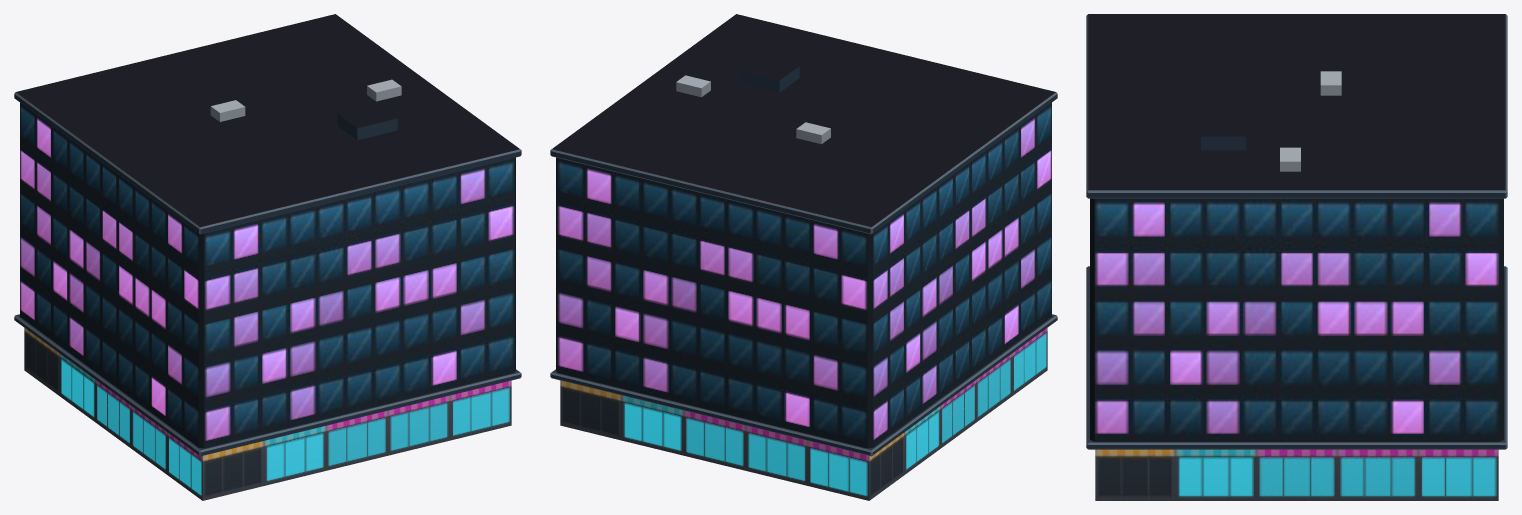
The model's file is building-28x28x24.glb.
3 renders of one model, left to right at view 1: azimuth 30°, elevation 25°; view 2: azimuth 150°, elevation 25°; view 3: azimuth 270°, elevation 25°, orthographic. The views are drawn at different scales.
Visible parts, largest first — view 1: building-28x28x24; view 2: building-28x28x24; view 3: building-28x28x24.
Part boxes in pixels (x1,y1,x2,y2): building-28x28x24: (14,14,521,500); building-28x28x24: (550,14,1057,500); building-28x28x24: (1086,14,1507,500).
Size of the model in its own units: 28 by 24 by 28.
Materials: 1 (1 with a texture image).
